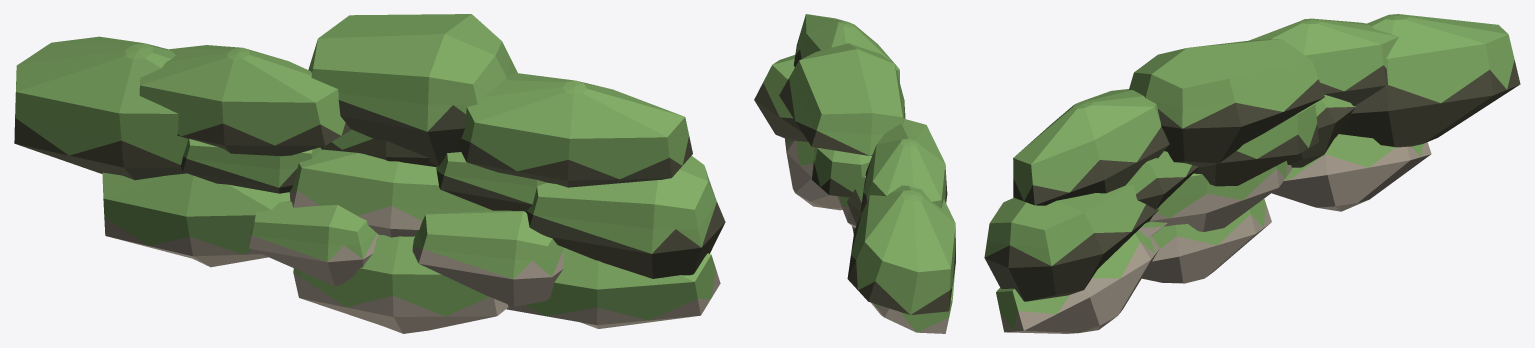
File: Mountain Rocks.fbx
The picture shows the model from 3 angles, left to right: view 1: azimuth 30°, elevation 25°; view 2: azimuth 150°, elevation 25°; view 3: azimuth 270°, elevation 25°; orthographic projection. The views are drawn at different scales.
Visible parts, largest first — view 1: Mining Village.242; view 2: Mining Village.242; view 3: Mining Village.242.
Part boxes in pixels (<box>): Mining Village.242: <box>14,14,725,333</box>; Mining Village.242: <box>754,14,955,333</box>; Mining Village.242: <box>984,14,1520,333</box>.
Size of the model in its own units: 887 by 508 by 987.
